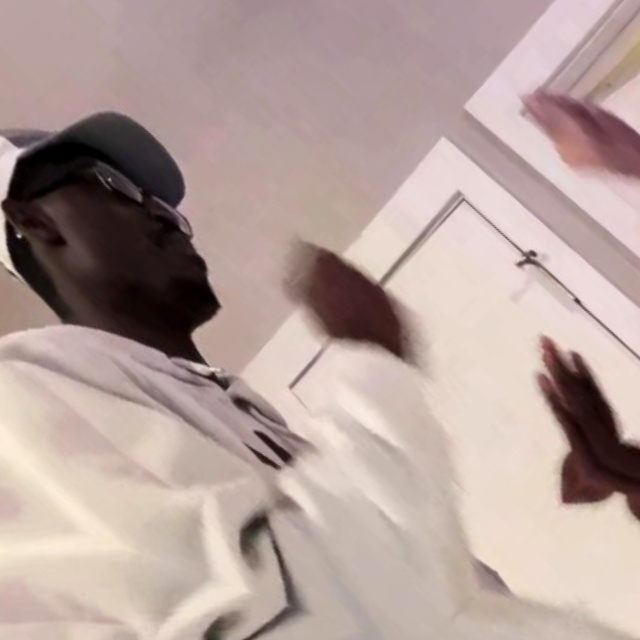Rock: (242, 209, 462, 404), (497, 54, 640, 214)
